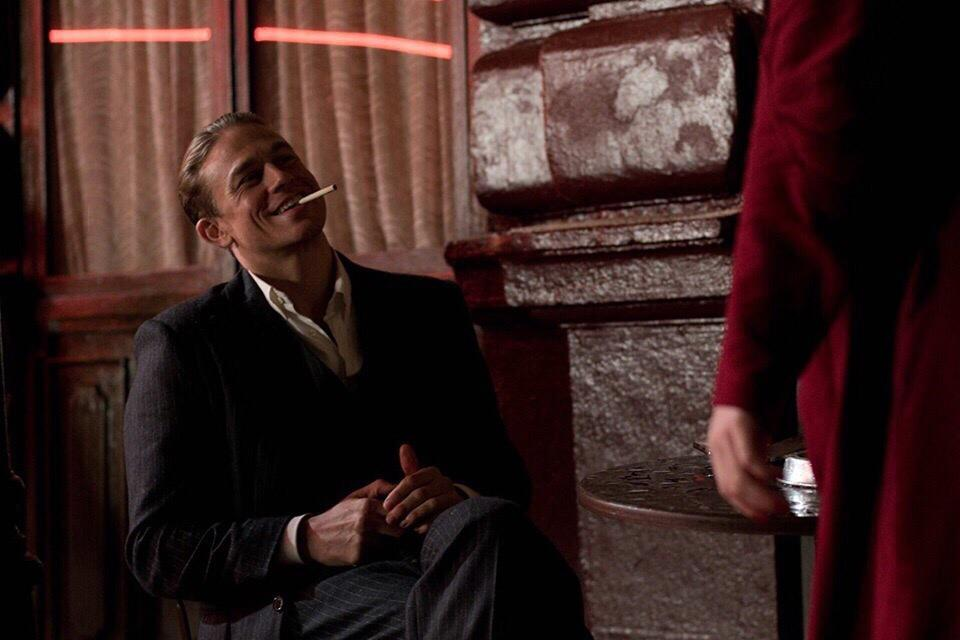cigarette: (298, 184, 338, 204)
